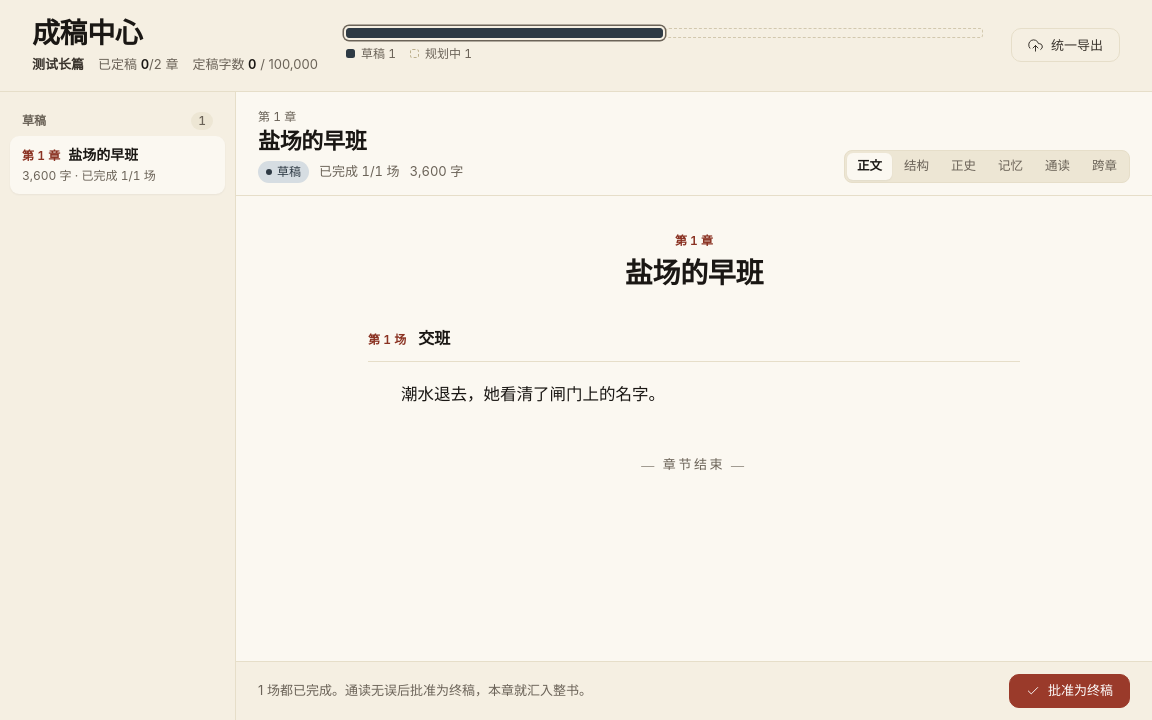
Test: 成稿中心权威章节流 › 正文齐了、还没批准的章：页脚直接给「批准为终稿」，不再先「送入审阅」，也没有「退回小修」（2026-10）
Expected: the text with class "ms-foot-note" shows "通读无误后批准为终稿", [258,682,592,698]
Step 1. Click the button with test id "approve-final-open" → (1070, 691), box [1009,674,1130,708]
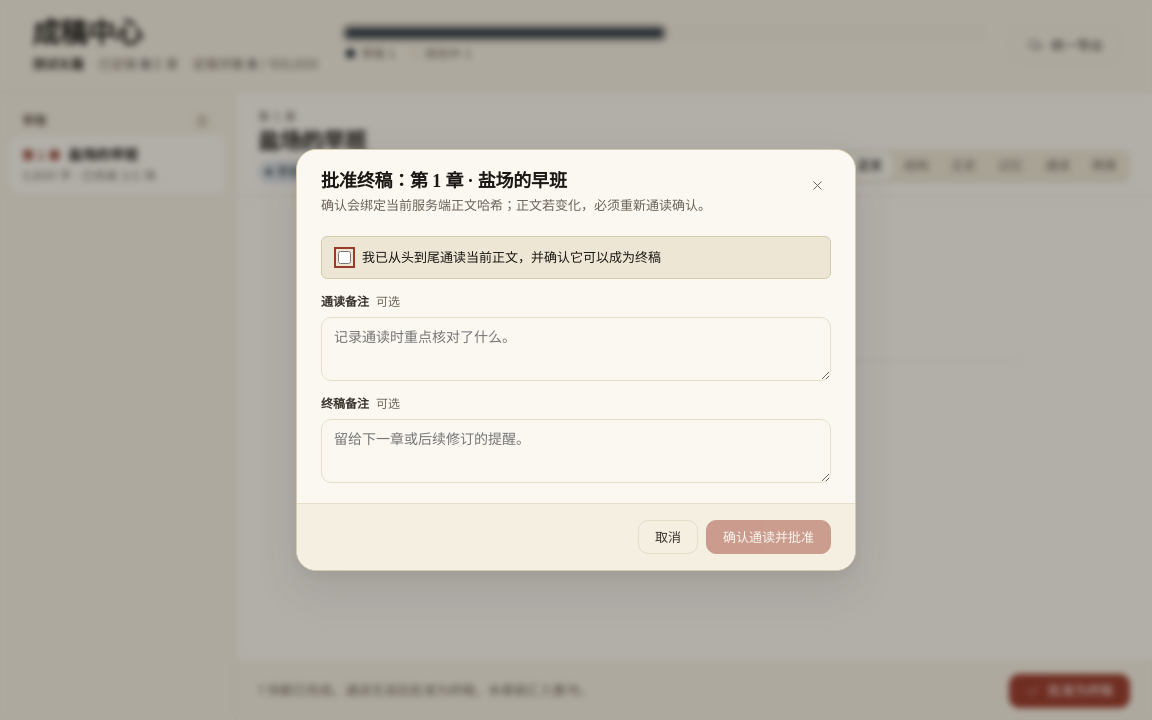
Step 2. Click the checkbox with test id "approve-read-confirm" → (344, 257), box [338,251,351,264]
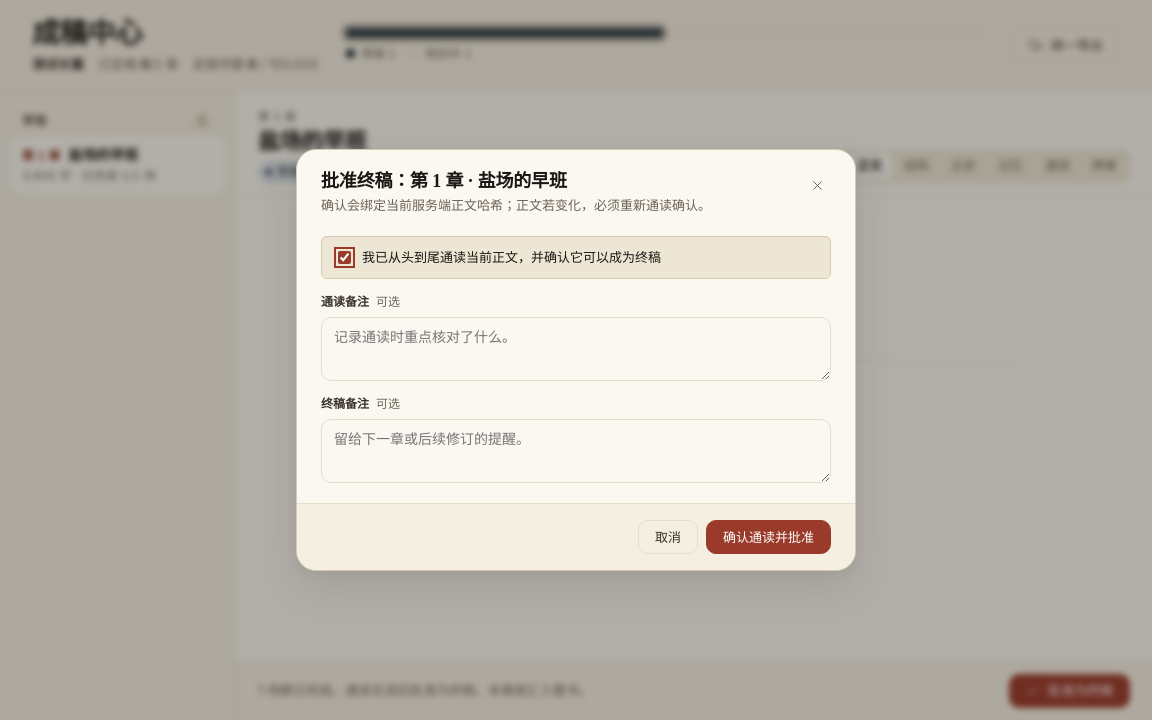
Step 3. Click the button with test id "approve-final-confirm" → (768, 537), box [706,520,831,554]
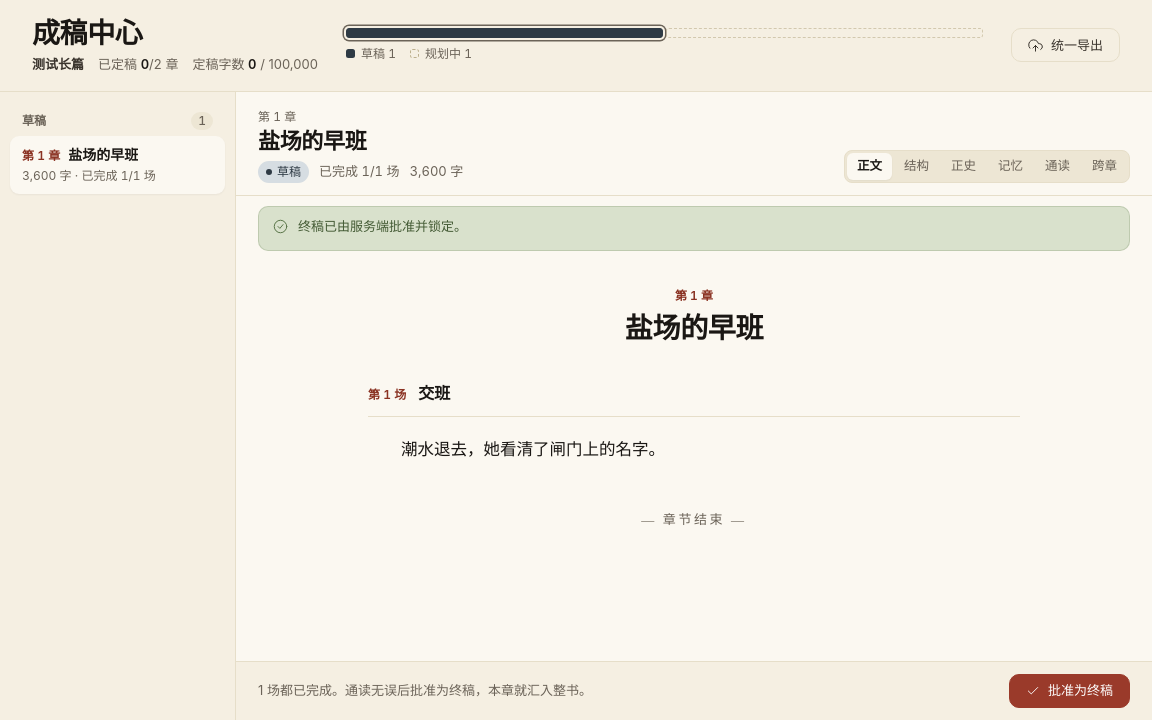
Result: the message with class "ms-status" shows "终稿已由服务端批准并锁定" at [298,218,467,234]
